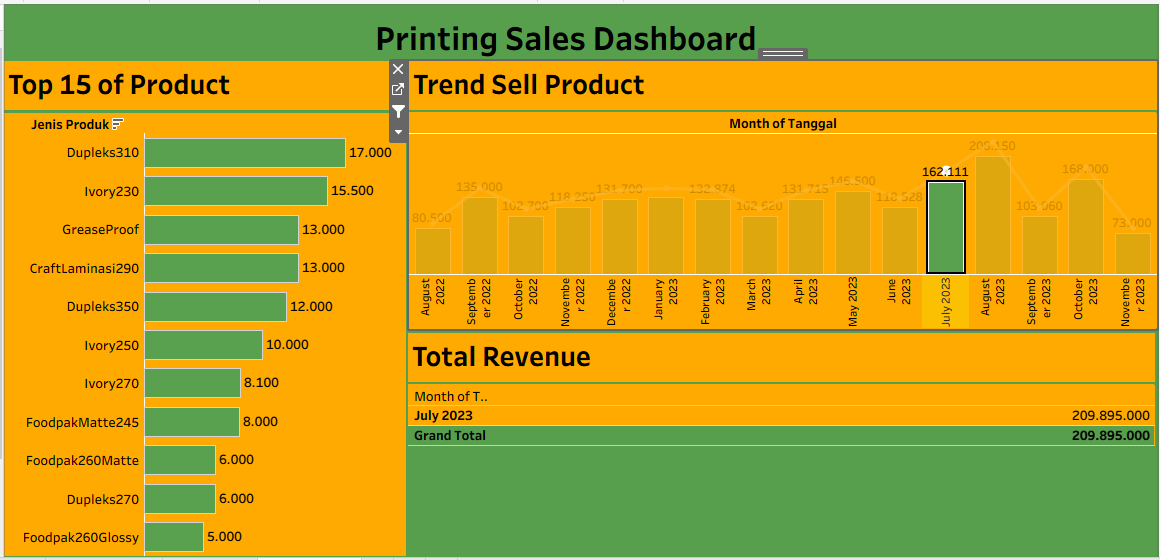

The dashboard page shown, as its layout file describes it:
{"tool":"tableau","page":{"name":"Dashboard 1","canvas":[1000,1000],"units":"permille","ordinal":0},"visuals":[{"type":"text","box":[277.1,19.9,419.1,81.5]},{"type":"worksheet","title":"Top 15 of Product","mark":"Automatic","rows":["jenis_produk"],"cols":["jumlah_order"],"box":[0,103.3,348.1,896.7]},{"type":"worksheet","title":"Trend Sell Product","mark":"Bar","rows":["jumlah_order","jumlah_order"],"cols":["tanggal"],"box":[350.7,103.3,647.6,485.5]},{"type":"worksheet","title":"Total Revenue","mark":"Automatic","rows":["tanggal"],"box":[349.8,596,646.8,400.4]}]}

Visuals, with their boxes on the dashboard's canvas, which has no fixed pixel size, in thousandths of its width and height (x1, y1, x2, y2). These are canvas units, not pixel positions in the 1160x560 screenshot, which may show the page scaled, cropped or inside an application window:
text: crop(277, 20, 696, 101)
"Top 15 of Product" worksheet: crop(0, 103, 348, 1000)
"Trend Sell Product" worksheet (Bar marks): crop(351, 103, 998, 589)
"Total Revenue" worksheet: crop(350, 596, 997, 996)
